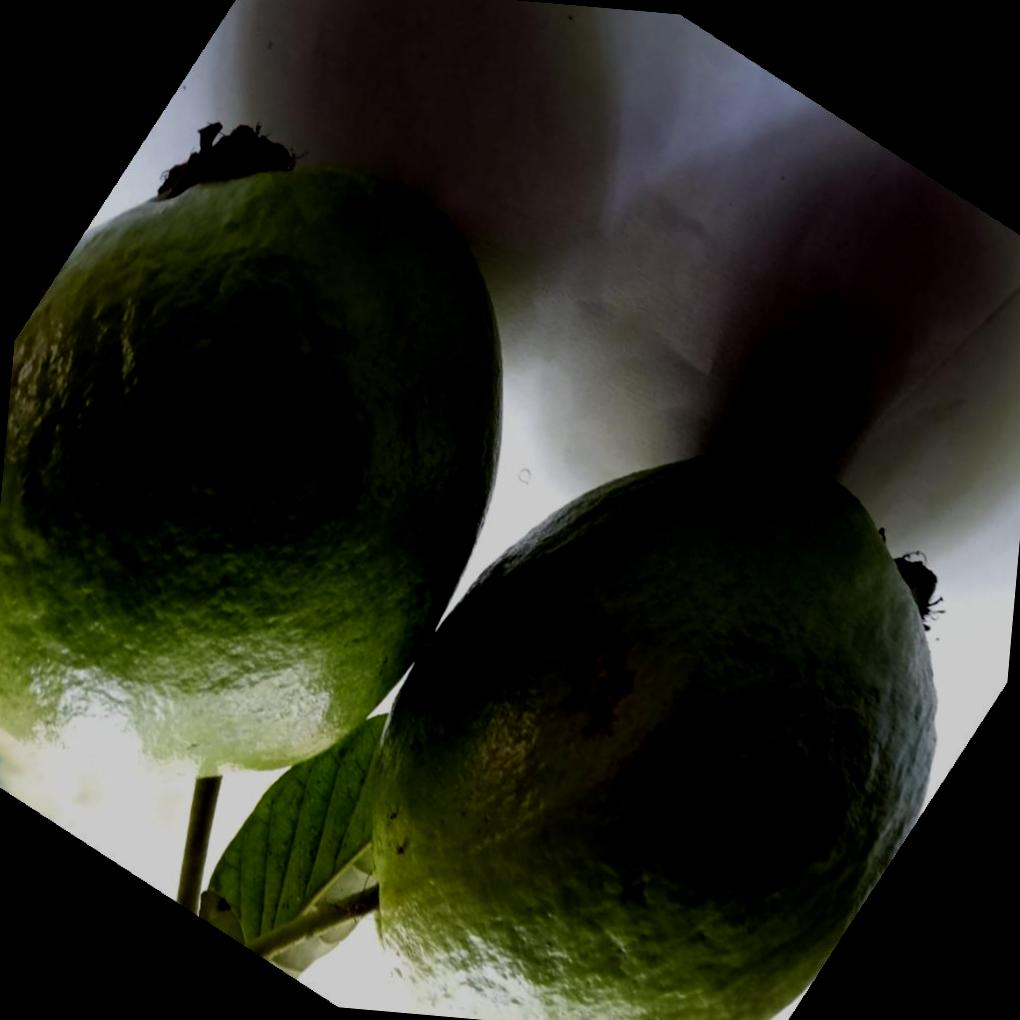FreshGuava: (0, 119, 1011, 1020)
